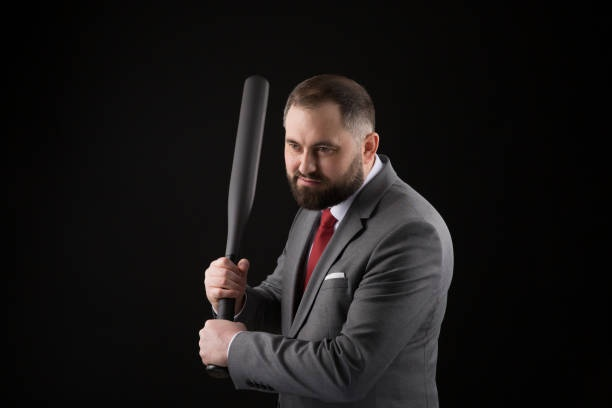bita: (208, 79, 276, 373)
